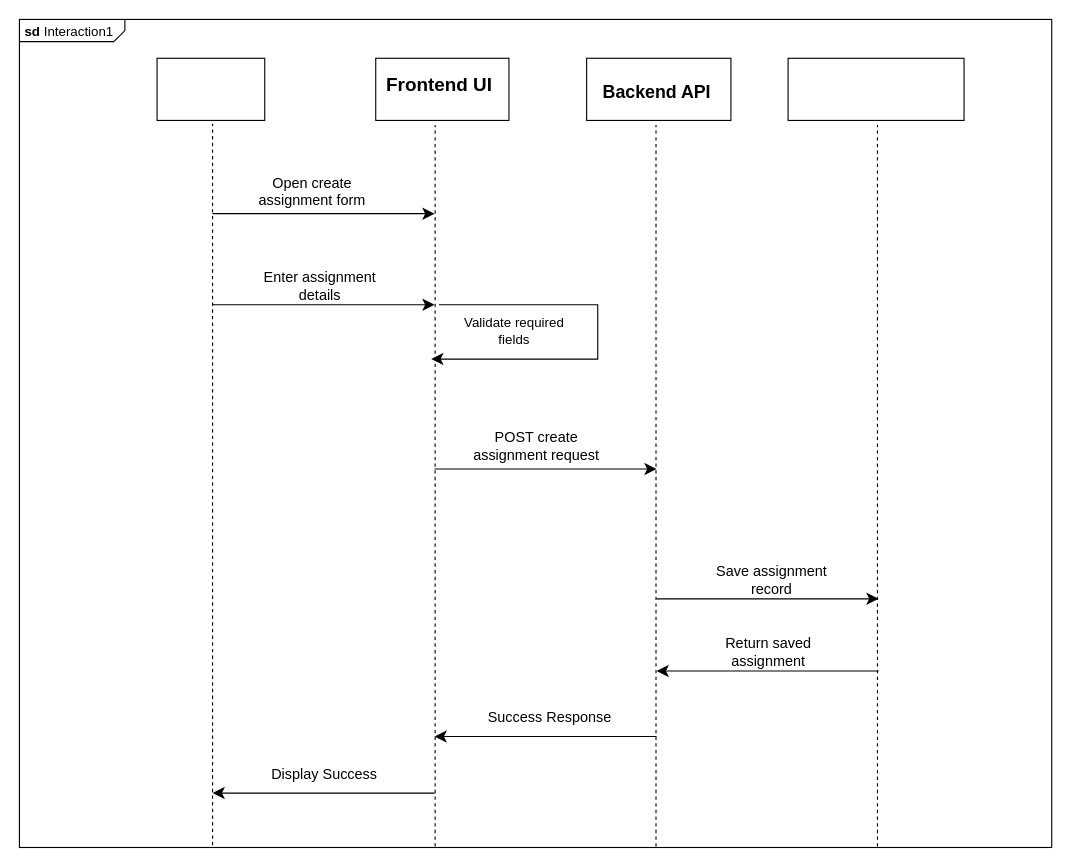
Image size: 1071x867. Some labels were removed from this diagram. Each missing label, with the box of its shape:
MongoDB Assignment Model: (787, 57, 964, 120)
Student: (156, 57, 265, 120)
